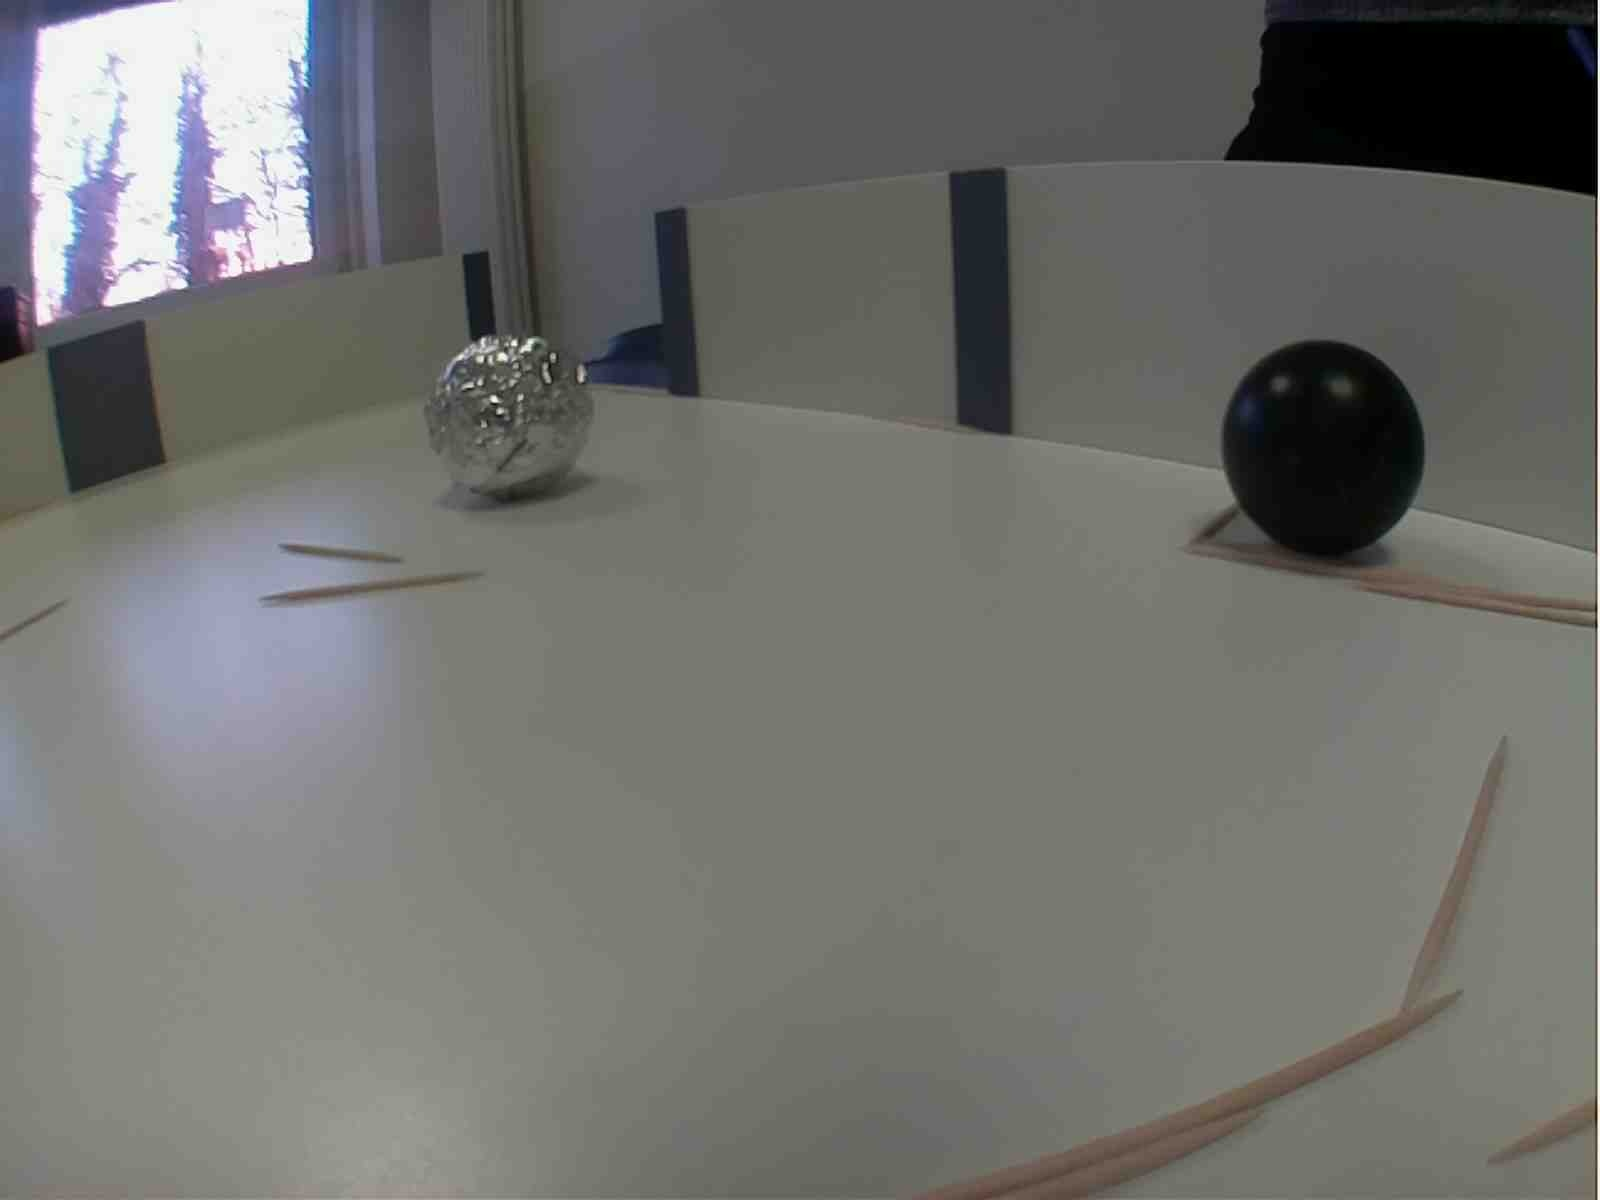bianca: (420, 334, 602, 505)
nera: (1225, 337, 1424, 568)
